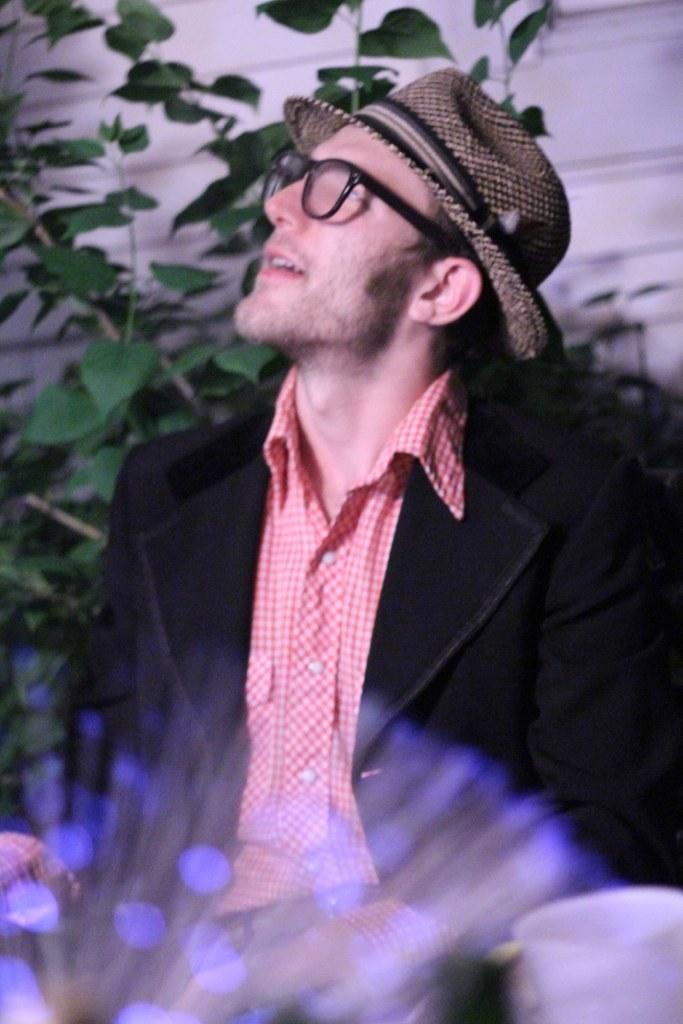Hat: (279, 68, 572, 364)
